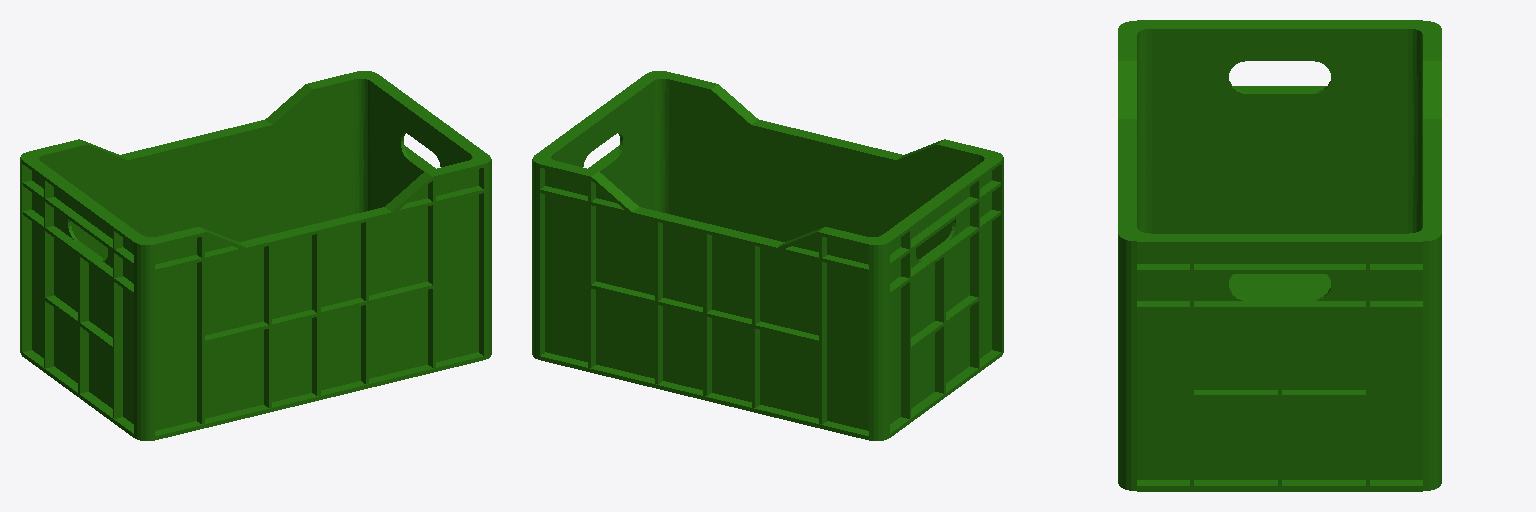
The robot description file, URDF, robot "plastic_bin":
<?xml version="1.0"?>
<robot name="plastic_bin">

  <link name="base_link">
    <inertial>
        <origin xyz="2.5908873064430885e-17 -6.47721826610772e-17 0.0466345179467445" rpy="0 0 0"/>
        <mass value="1.1022530221461508"/>
        <inertia ixx="0.0084861" iyy="0.0163272" izz="0.0183834" ixy="-0.0" iyz="-0.0" ixz="-0.0"/>
      </inertial>
      <visual>
        <origin xyz="0 0 0" rpy="0 0 0"/>
        <geometry>
          <mesh filename="package://lara_description/meshes/parts/plastic_bin.stl" scale="0.001 0.001 0.001"/>
        </geometry>
        <material name="green">
            <color rgba=".2 .5 .1 1.0" />
          </material>
      </visual>
      <collision>
        <origin xyz="0 0 0" rpy="0 0 0"/>
        <geometry>
          <mesh filename="package://lara_description/meshes/parts/plastic_bin.stl" scale="0.001 0.001 0.001"/>
        </geometry>
      </collision>
  </link>

  <gazebo reference="base_link">
    <material>Gazebo/Green</material>
    <kp>1000000.0</kp>
    <kd>1.0</kd>
    <mu1>0.8</mu1>
    <mu2>0.8</mu2>
    <maxVel>0.0</maxVel>
    <minDepth>0.001</minDepth>
  </gazebo>


</robot>

--- What the picture shows (computed from the rendered views, not written in the file) ---
Views: 3 orthographic renders of the robot side by side, from view 1: azimuth 30°, elevation 25°; view 2: azimuth 150°, elevation 25°; view 3: azimuth 270°, elevation 25°.
Model plastic_bin with 1 links and 0 joints (none), rooted at base_link, posed all joints at 0.
Visible links, largest first — view 1: base_link; view 2: base_link; view 3: base_link.
Boxes of the visible links, <box> form: base_link: <box>20,71,491,440</box>; base_link: <box>532,71,1003,440</box>; base_link: <box>1118,20,1441,491</box>.
Bounding box of the posed robot: 0.33 × 0.204 × 0.174 m (x, y, z).
1 mesh visuals loaded from 1 distinct referenced files (1 binary STL).
